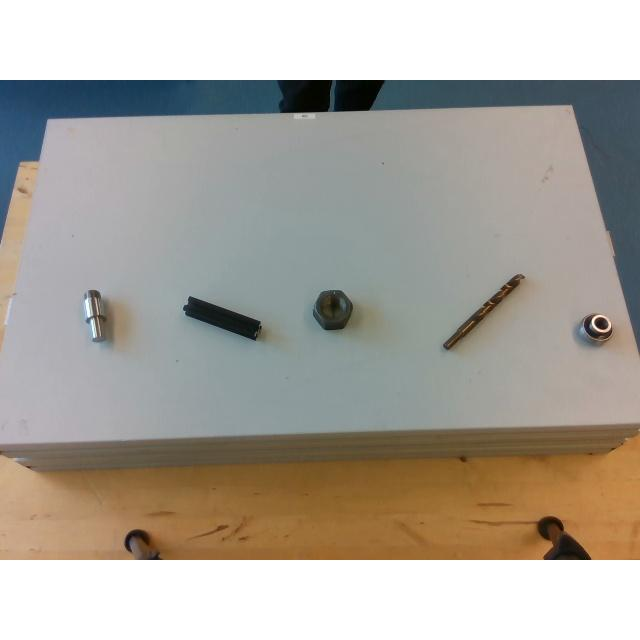Axis2: (82, 289, 106, 339)
Bearing2: (580, 314, 612, 342)
Drill: (442, 274, 522, 350)
F20_20_B: (182, 296, 262, 338)
M30: (313, 288, 352, 328)
